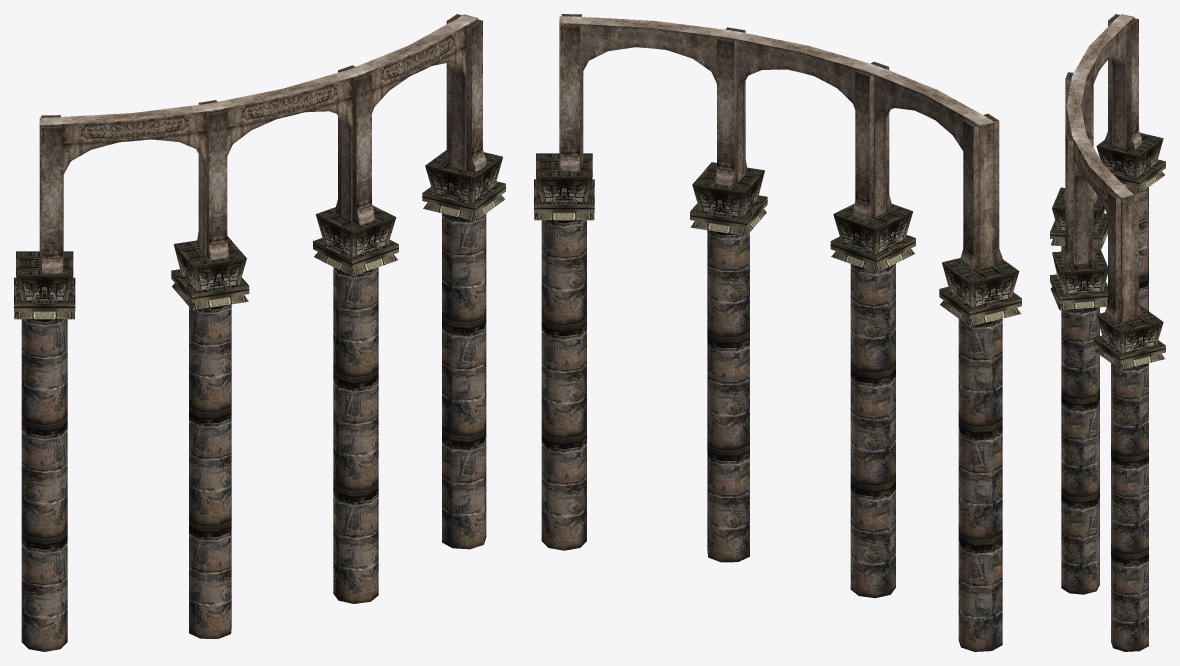
The model's file is Desert_building03.FBX.
3 renders of one model, left to right at view 1: azimuth 30°, elevation 25°; view 2: azimuth 150°, elevation 25°; view 3: azimuth 270°, elevation 25°, orthographic. The views are drawn at different scales.
Parts seen in each view (by area): view 1: Object005; view 2: Object005; view 3: Object005.
Part boxes in pixels (left/top/right/bottom): Object005: left=14, top=14, right=505, bottom=651; Object005: left=534, top=14, right=1021, bottom=651; Object005: left=1050, top=14, right=1165, bottom=651.
Bounding box in the file's own units: 3048 × 3099 × 723.
Materials: 3 (3 with a texture image).
